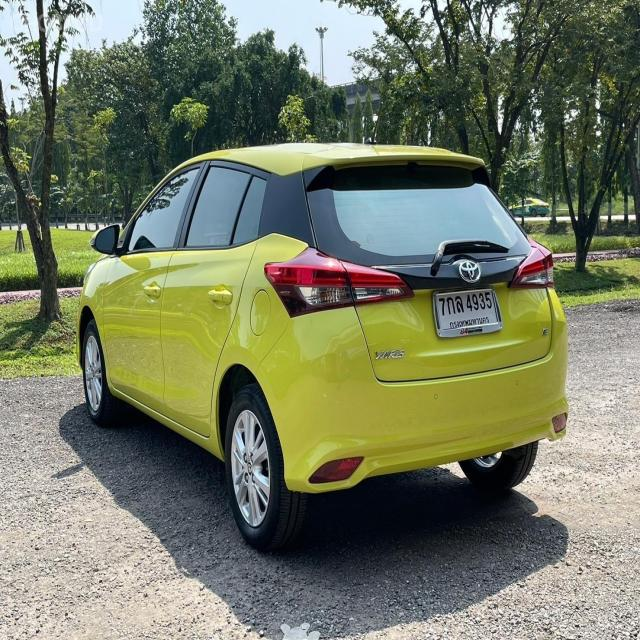license_plate: (432, 282, 505, 341)
